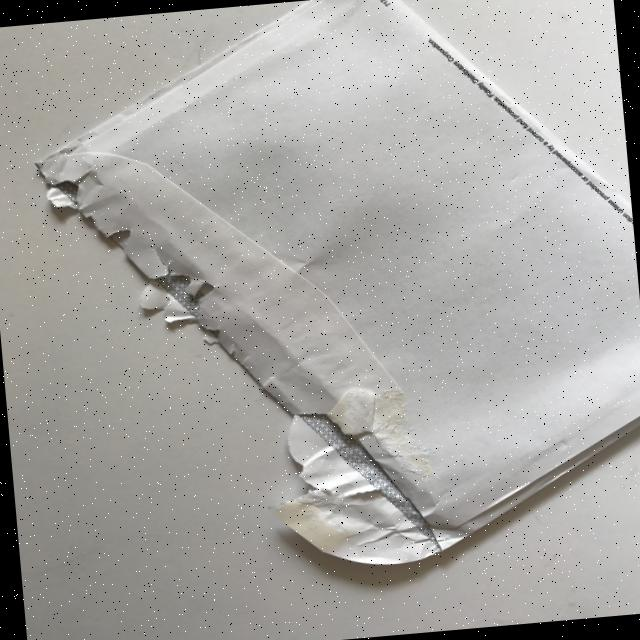paper: (20, 0, 640, 592)
